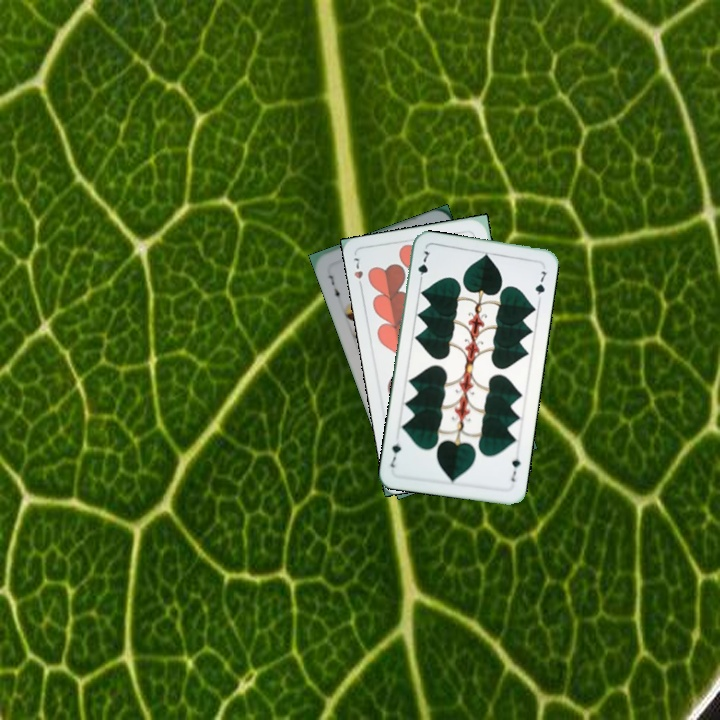E7: (324, 271, 344, 303)
G7: (414, 247, 432, 286), (507, 454, 523, 484)
H7: (350, 254, 366, 292)
